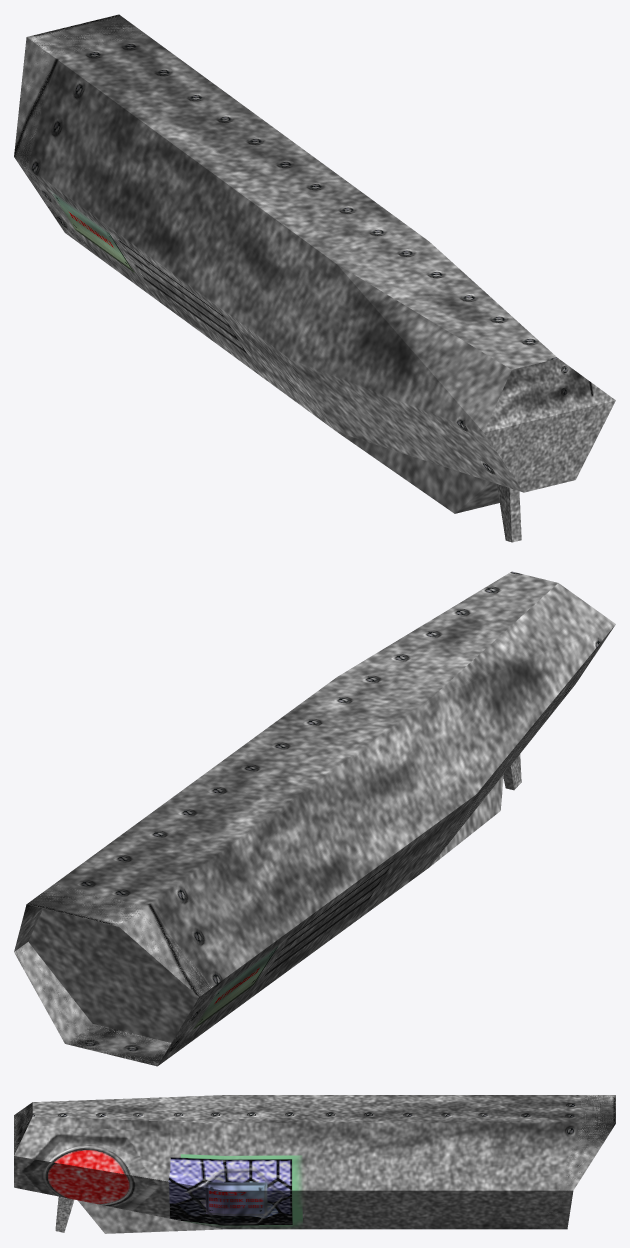
Rendered from rocket_launcher.obj.
3 renders of one model, top to bottom at view 1: azimuth 30°, elevation 25°; view 2: azimuth 150°, elevation 25°; view 3: azimuth 270°, elevation 25°, orthographic. The views are drawn at different scales.
Parts seen in each view (by area): view 1: rocket_launcher; view 2: rocket_launcher; view 3: rocket_launcher.
Part boxes in pixels (left/top/right/bottom): rocket_launcher: left=14, top=14, right=615, bottom=542; rocket_launcher: left=14, top=571, right=615, bottom=1066; rocket_launcher: left=14, top=1095, right=615, bottom=1233.
Bounding box in the file's own units: 0.7467 × 0.7468 × 3.33.
Materials: 1 (1 with a texture image).
